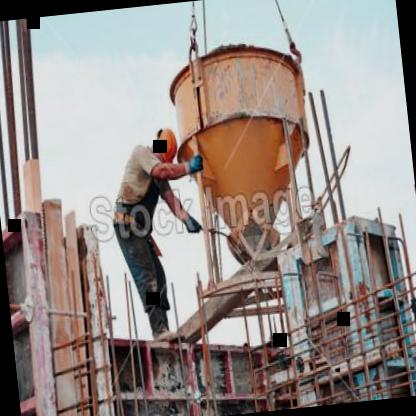helmet: (150, 122, 184, 170)
